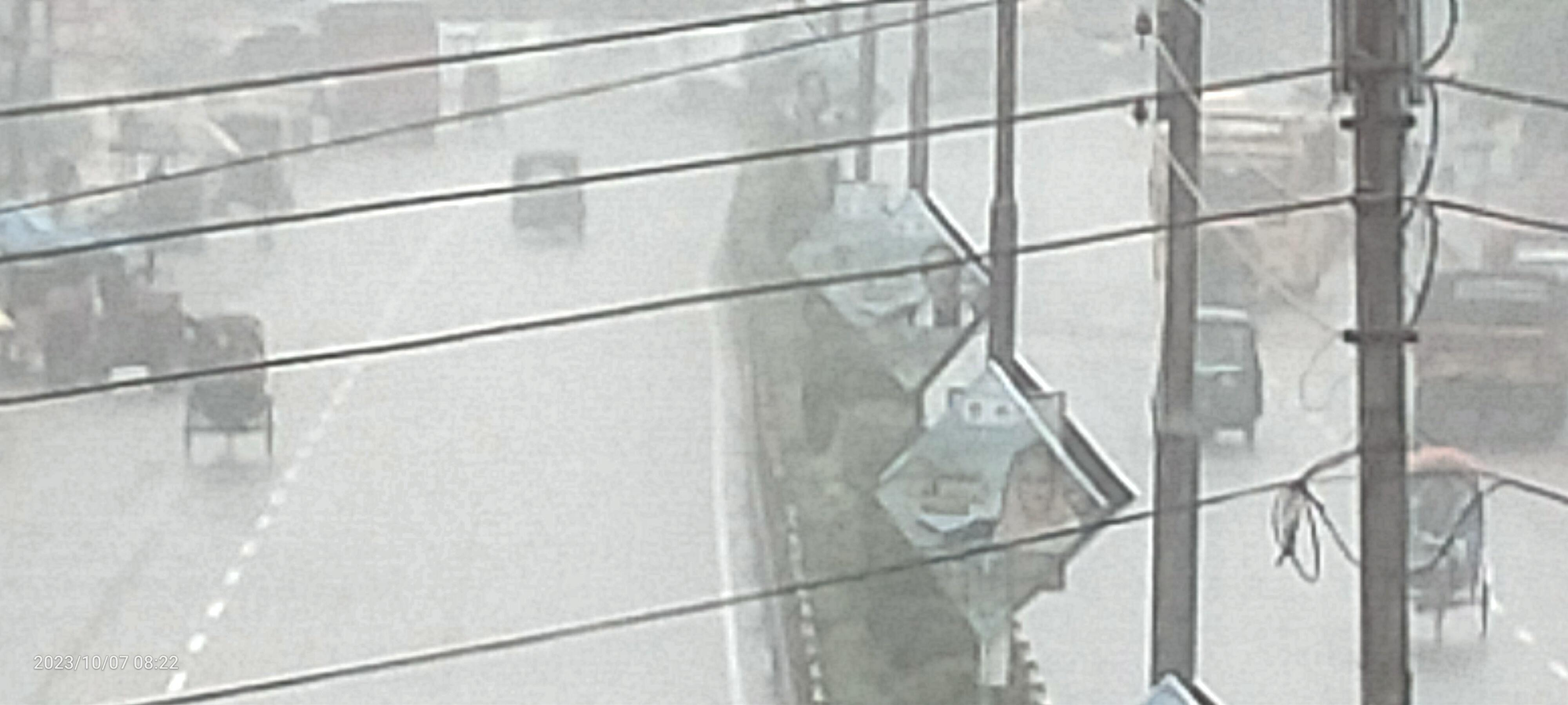Bus: (1104, 42, 1364, 342), (281, 0, 458, 163)
Car: (1369, 412, 1532, 674), (158, 301, 312, 481)
Truck: (1388, 243, 1568, 456)
